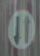Two way: (5, 4, 39, 54)
